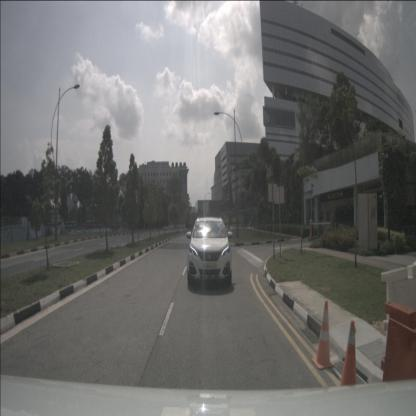movable_object-barrier: (378, 300, 416, 416), (382, 261, 416, 362)
movable_object-trafficcone: (336, 320, 362, 404), (311, 300, 335, 369)
vehicle-car: (186, 217, 233, 286)
